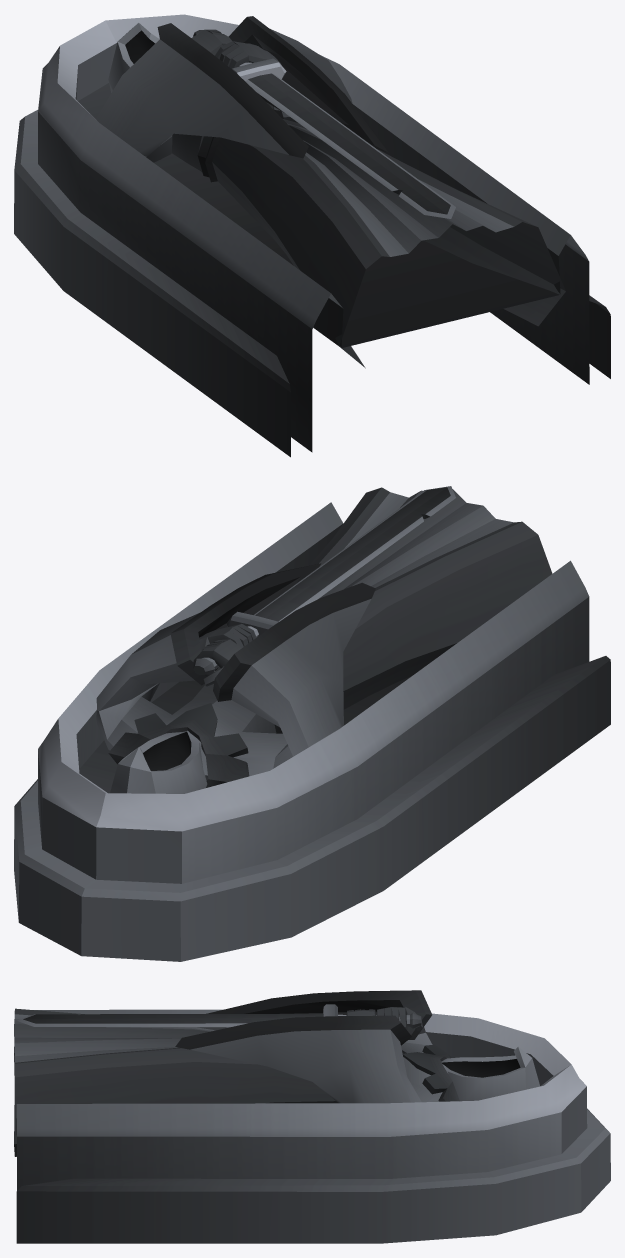
File: Statue 02.FBX
3 views of the same model, one above another, from view 1: azimuth 30°, elevation 25°; view 2: azimuth 150°, elevation 25°; view 3: azimuth 270°, elevation 25° (orthographic). The views are drawn at different scales.
Visible parts, largest first — view 1: Statue 02; view 2: Statue 02; view 3: Statue 02.
Boxes of the visible parts, left/top/right/bottom form: Statue 02: left=14, top=14, right=610, bottom=457; Statue 02: left=14, top=486, right=610, bottom=961; Statue 02: left=14, top=990, right=610, bottom=1243.
Bounding box in the file's own units: 143 × 94.86 × 288.
